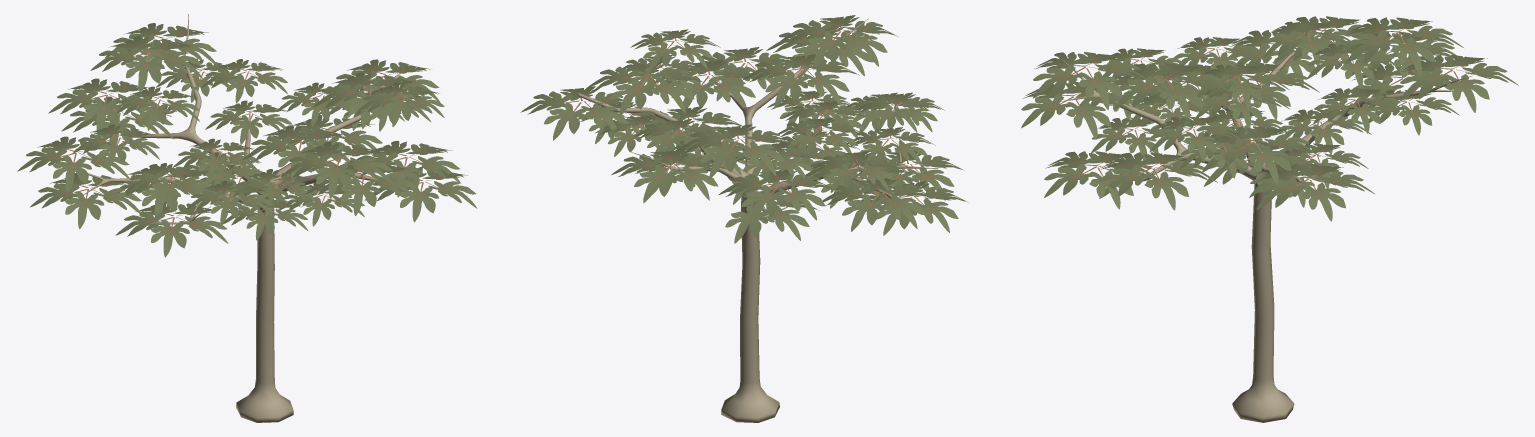
File: YarumoBlanco.fbx
3 views of the same model, side by side, from view 1: azimuth 30°, elevation 25°; view 2: azimuth 150°, elevation 25°; view 3: azimuth 270°, elevation 25° (orthographic). The views are drawn at different scales.
Visible parts, largest first — view 1: Plane; view 2: Plane; view 3: Plane.
Part boxes in pixels (x1,y1,x2,y2): Plane: (17, 14, 477, 422); Plane: (520, 15, 968, 422); Plane: (1021, 16, 1518, 422).
Bounding box in the file's own units: 2205 × 1639 × 2151.
